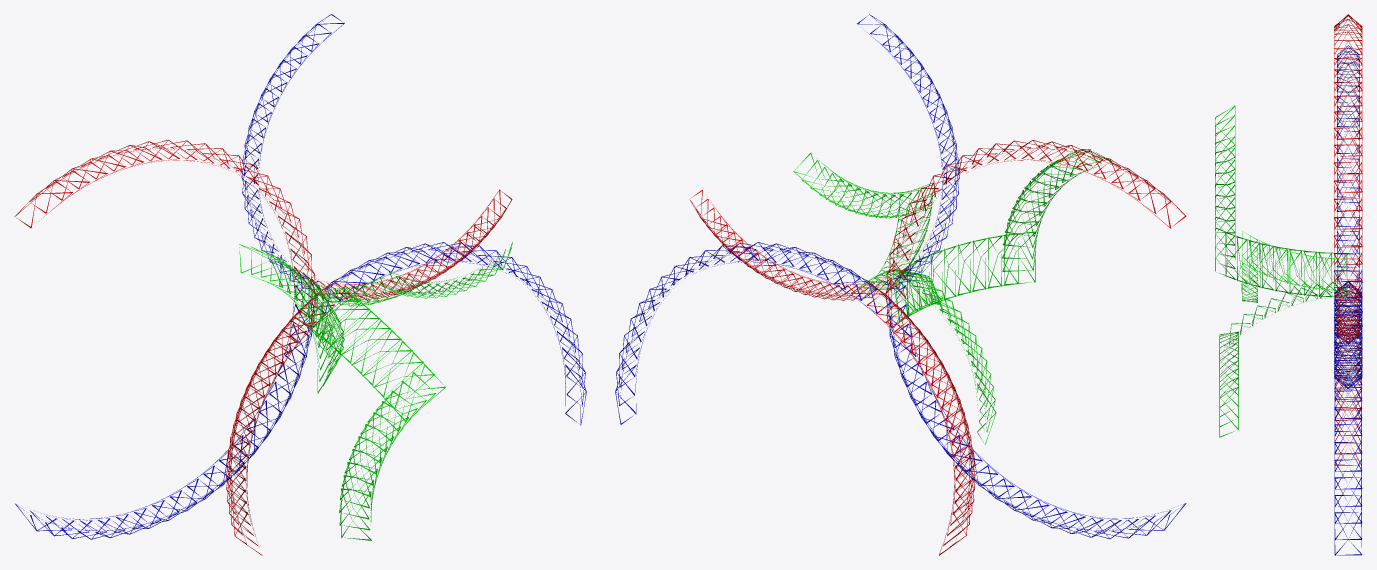
The model's file is cameras.glb.
3 renders of one model, left to right at view 1: azimuth 30°, elevation 25°; view 2: azimuth 150°, elevation 25°; view 3: azimuth 270°, elevation 25°, orthographic. The views are drawn at different scales.
Parts seen in each view (by area): view 1: world; view 2: world; view 3: world.
Boxes of the visible parts, x1,y1,x2,y2 form: world: (14,14,586,555); world: (615,14,1186,555); world: (1215,14,1362,555).
Size of the model in its own units: 3.63 by 3.15 by 0.9409.
